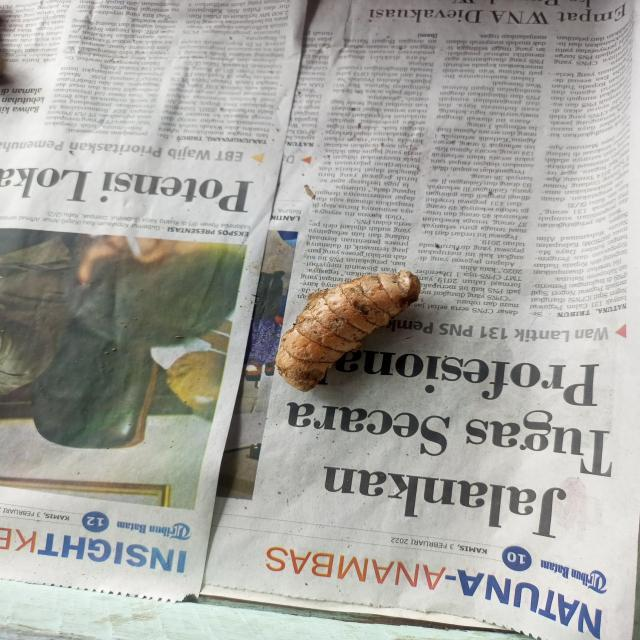ginger: (282, 273, 437, 389)
